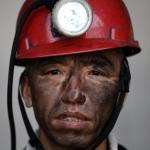helmet: (14, 1, 144, 68)
